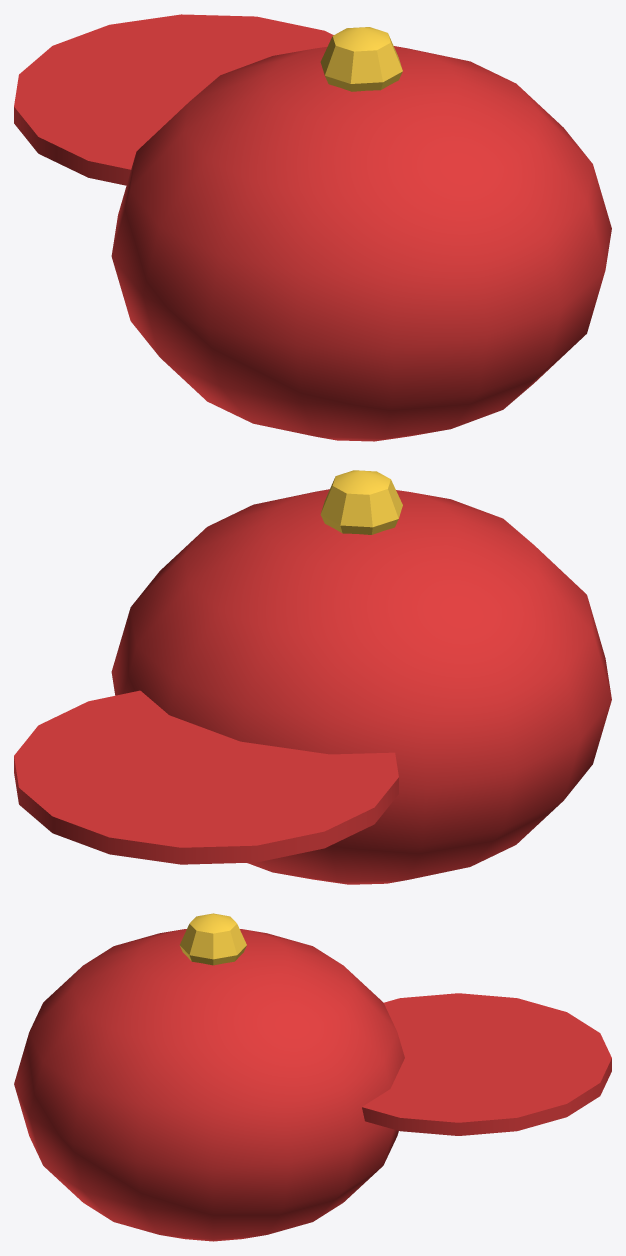
Rendered from AccCap.fbx.
3 views of the same model, one above another, from view 1: azimuth 30°, elevation 25°; view 2: azimuth 150°, elevation 25°; view 3: azimuth 270°, elevation 25° (orthographic). The views are drawn at different scales.
Visible parts, largest first — view 1: AccCap; view 2: AccCap; view 3: AccCap.
Boxes of the visible parts, x1,y1,x2,y2 form: AccCap: (14, 14, 611, 441); AccCap: (14, 470, 611, 884); AccCap: (14, 913, 611, 1241).
Size of the model in its own units: 130 by 110 by 195.
